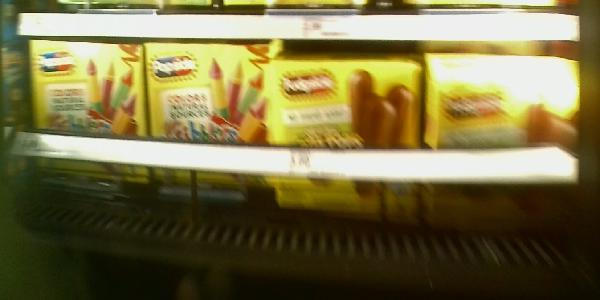icecream: (268, 56, 422, 242), (426, 51, 578, 225), (145, 38, 276, 226), (27, 39, 146, 212)
